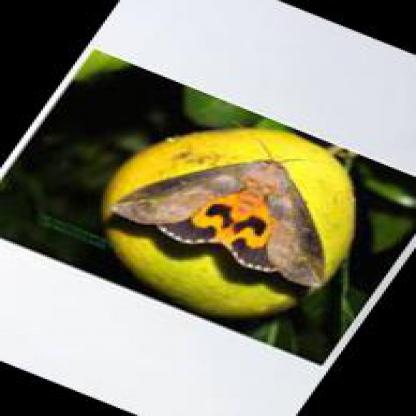fruit sucking moth: (111, 161, 325, 289)
